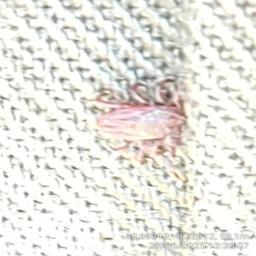Rhipicephalus sanguineus: (92, 83, 185, 165)
